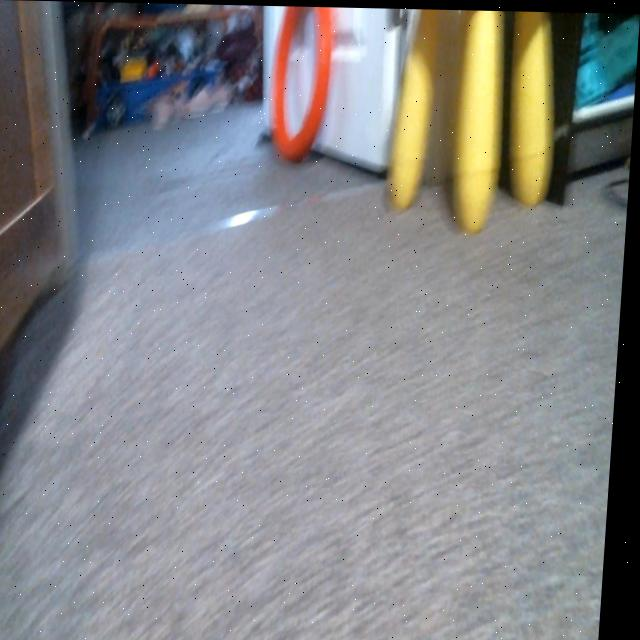note: (268, 5, 336, 167)
